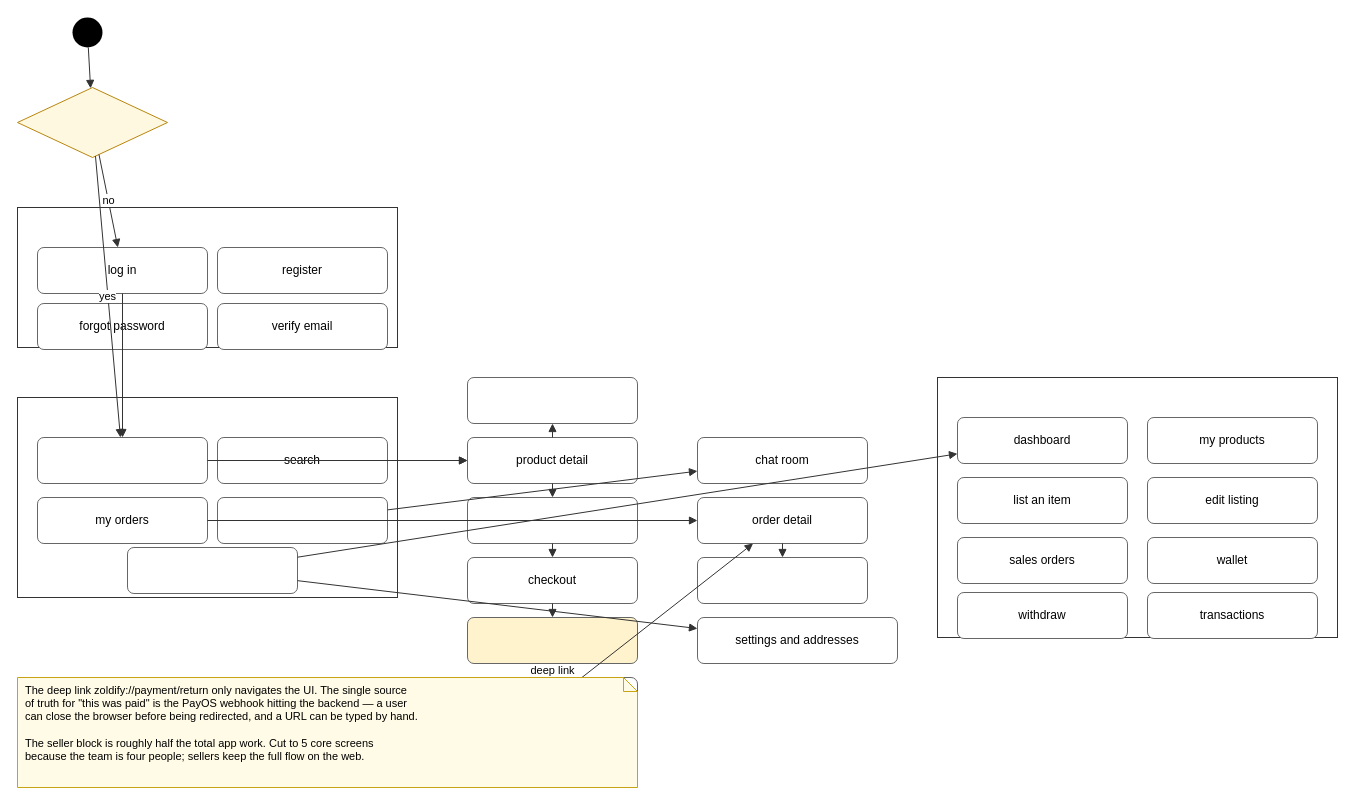
The diagram is 1355 pixels wide and 805 high, and some of its shapes have lost their labels. The shapes that lost their labels are listed below. From the top down, each one's box as (x1, y1, x2, y2) in pixels, then its label:
(16, 86, 168, 158): Valid token?
(16, 206, 398, 348): (auth) — 4 screens
(466, 376, 638, 424): seller shop
(36, 436, 208, 484): home
(16, 396, 398, 598): (tabs) — 5 screens
(936, 376, 1338, 638): seller/ — 9 screens
(216, 496, 388, 544): chat
(466, 496, 638, 544): cart
(126, 546, 298, 594): profile
(696, 556, 868, 604): GHN tracking
(466, 616, 638, 664): PayOS WebView
